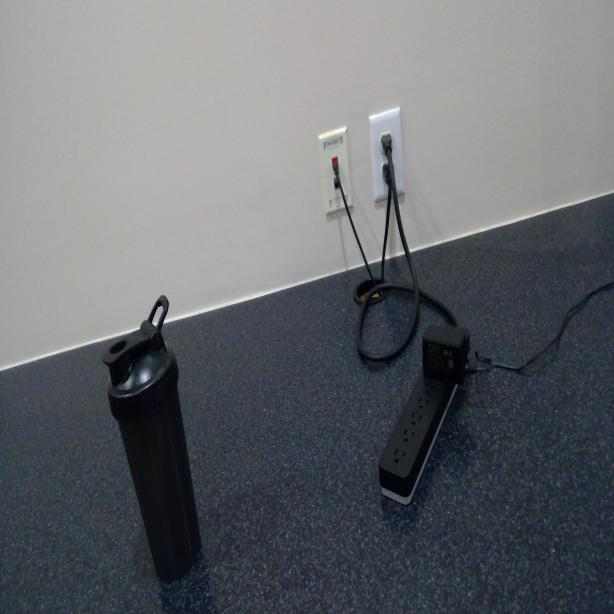typeb: (391, 443, 406, 468), (424, 380, 438, 401), (416, 397, 431, 415), (401, 428, 416, 446), (411, 413, 425, 432)
